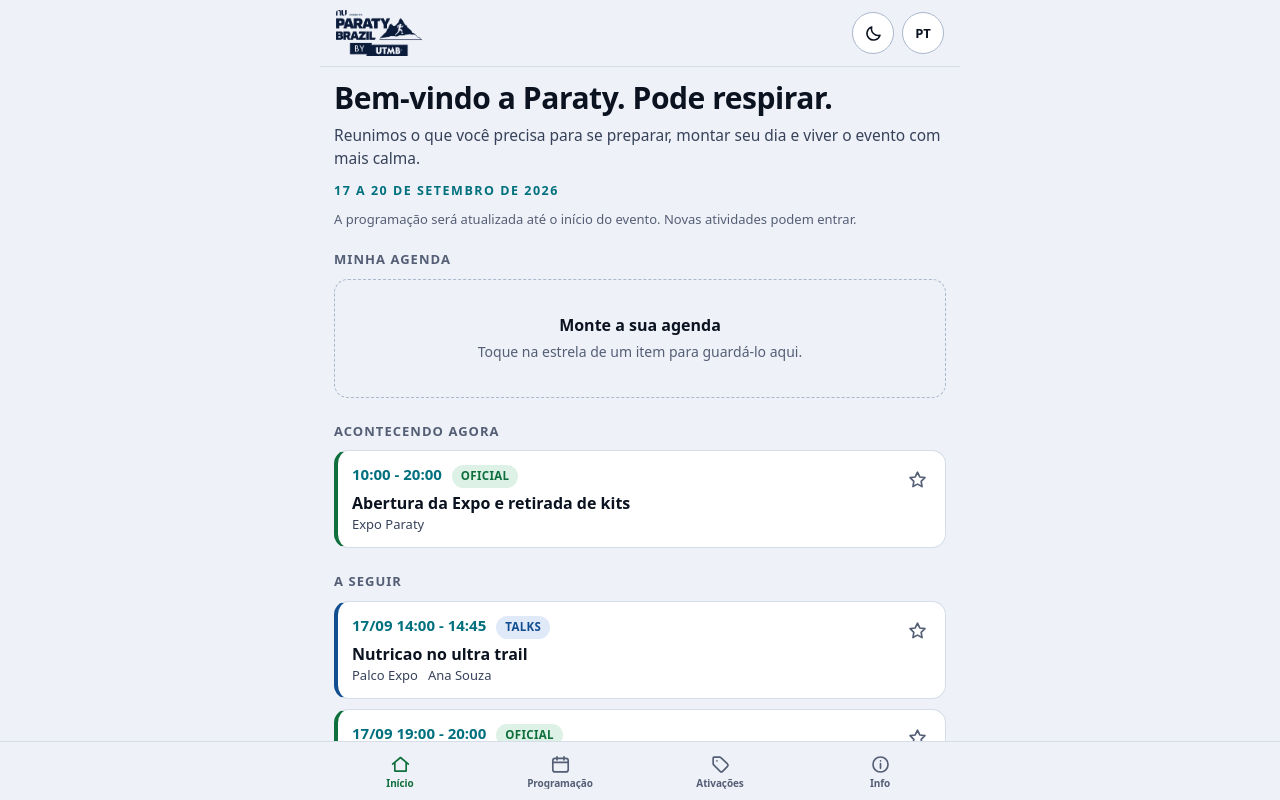
Test case: App › abre e fecha o detalhe de um item
Expected: the navigation bar is shown, top-left (320, 742), bottom-right (960, 799)
Expected: the heading "Acontecendo agora" is shown, top-left (334, 422), bottom-right (500, 440)
What coordinates should you click on to do the following:
click the button that starts with "Oficial"
I would click on:
 (397, 474)
Its box is top-left (338, 452), bottom-right (945, 547).
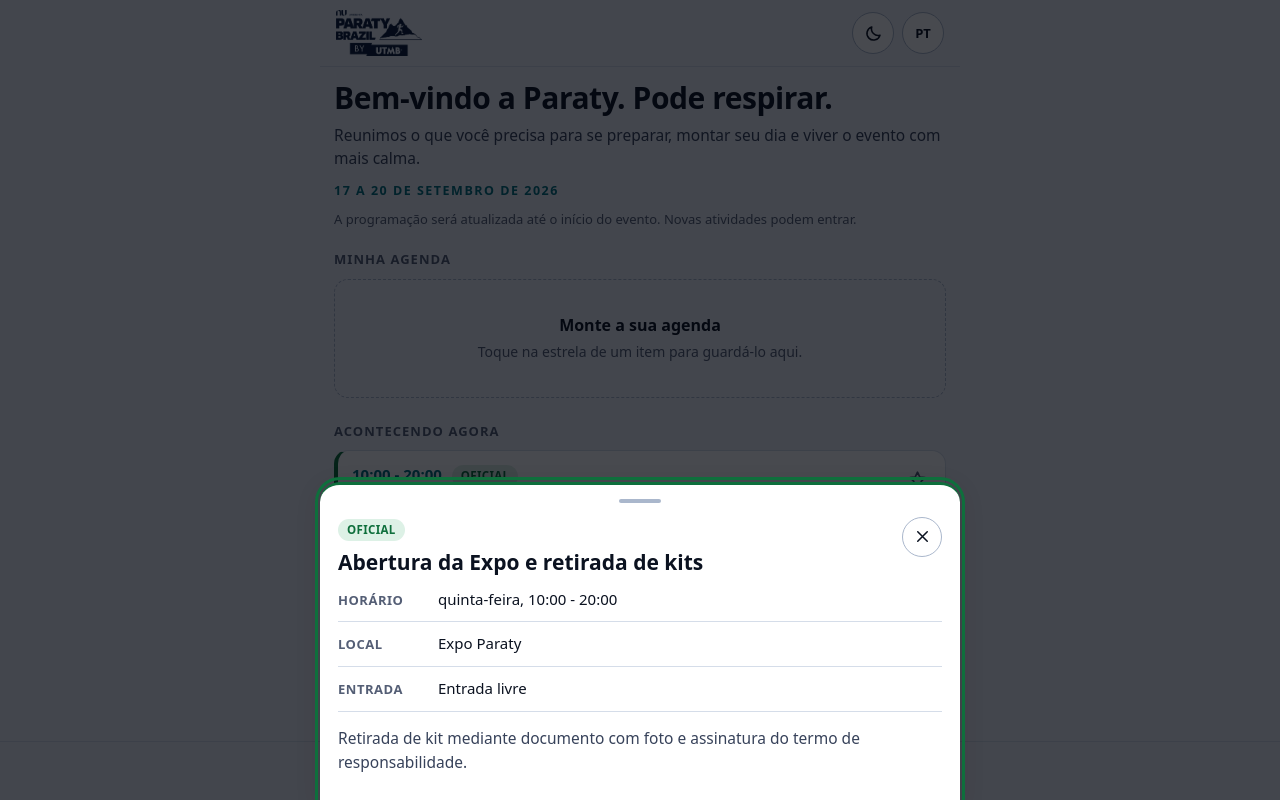
Now the dialog is shown, box top-left (320, 482), bottom-right (960, 799)
What coordinates should you click on to do the following:
click the button named "fechar"
I would click on:
 (922, 537)
Its box is top-left (902, 517), bottom-right (942, 557).
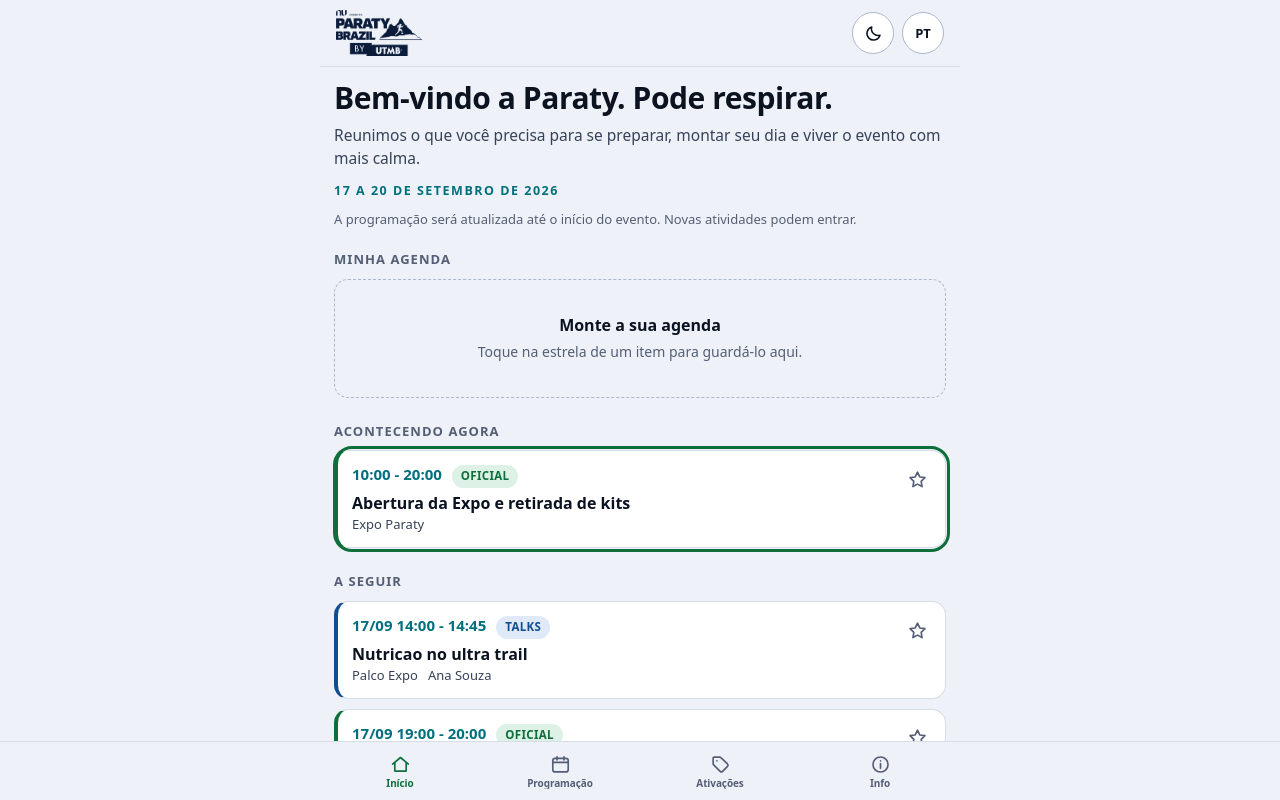
Now the dialog is gone
